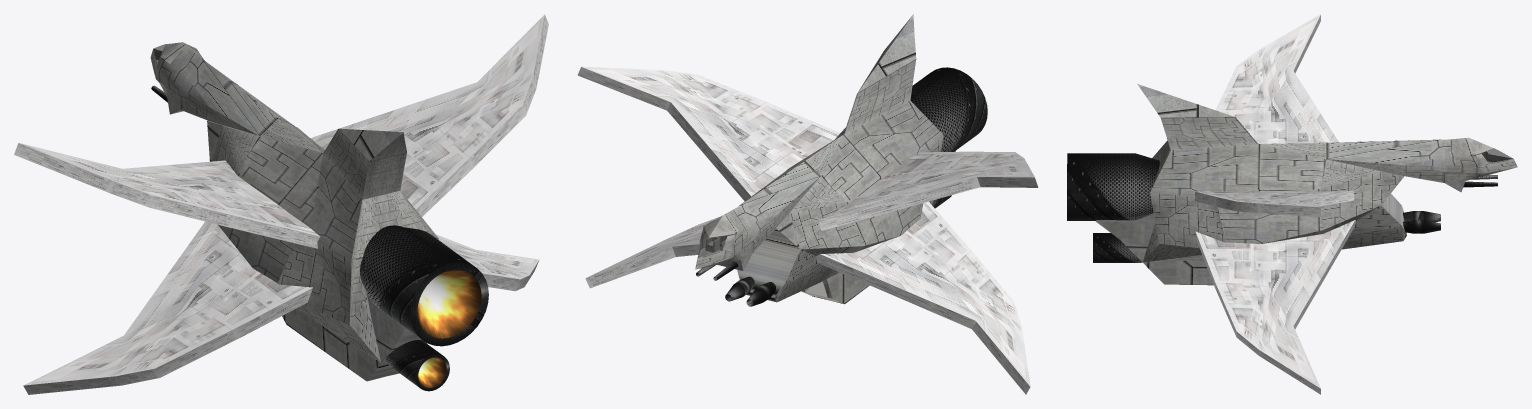
Rendered from Vaisseau_Final.gltf.
The picture shows the model from 3 angles, left to right: view 1: azimuth 30°, elevation 25°; view 2: azimuth 150°, elevation 25°; view 3: azimuth 270°, elevation 25°; orthographic projection. The views are drawn at different scales.
Visible parts, largest first — view 1: Main, Aile gauche haut, Aile gauche bas, exterieur_grand reacteur, interieur_grand reacteur.1, exterieur_petit reacteur, interieur_petit reacteur.1; view 2: Main, Aile gauche haut, Aile gauche bas, exterieur_grand reacteur, Arme Bas, Vitre; view 3: Main, Aile gauche bas, Aile gauche haut, exterieur_grand reacteur, exterieur_petit reacteur, Arme Bas.
Part boxes in pixels (box(x1,y1,x2,y2)): Main: box(150, 42, 438, 381); Aile gauche haut: box(14, 14, 548, 248); Aile gauche bas: box(23, 221, 539, 394); exterieur_grand reacteur: box(360, 225, 488, 346); interieur_grand reacteur.1: box(417, 269, 481, 338); exterieur_petit reacteur: box(385, 339, 449, 391); interieur_petit reacteur.1: box(418, 357, 446, 387); Main: box(695, 14, 956, 304); Aile gauche haut: box(577, 66, 1038, 230); Aile gauche bas: box(585, 201, 1030, 394); exterieur_grand reacteur: box(910, 67, 987, 151); Arme Bas: box(725, 276, 775, 306); Vitre: box(698, 231, 726, 257); Main: box(1095, 84, 1517, 285); Aile gauche bas: box(1195, 220, 1355, 394); Aile gauche haut: box(1194, 14, 1354, 216); exterieur_grand reacteur: box(1067, 153, 1159, 220); exterieur_petit reacteur: box(1093, 233, 1142, 262); Arme Bas: box(1403, 211, 1440, 233).
Bounding box in the file's own units: 655 × 340 × 636.
5 materials, 4 textured.
